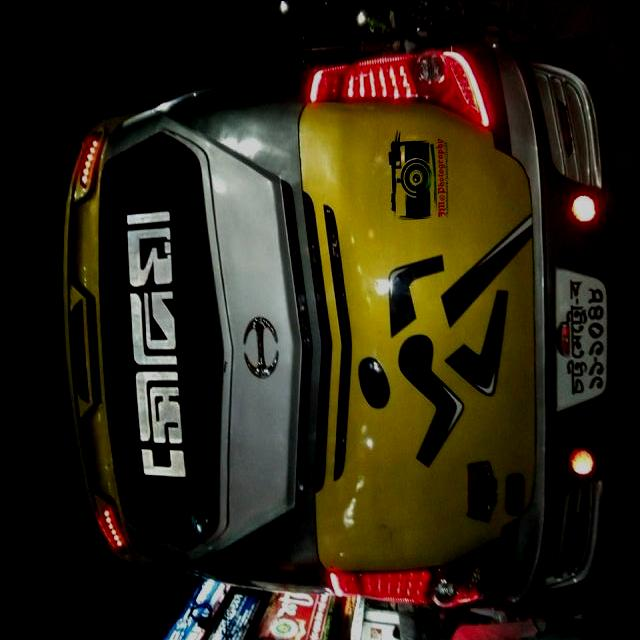bus: (60, 35, 623, 611)
